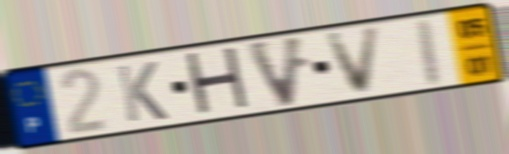2: (58, 66, 110, 139)
H: (181, 44, 256, 120)
I: (416, 15, 446, 90)
K: (113, 59, 171, 125)
V: (242, 32, 309, 111), (322, 22, 385, 98)
